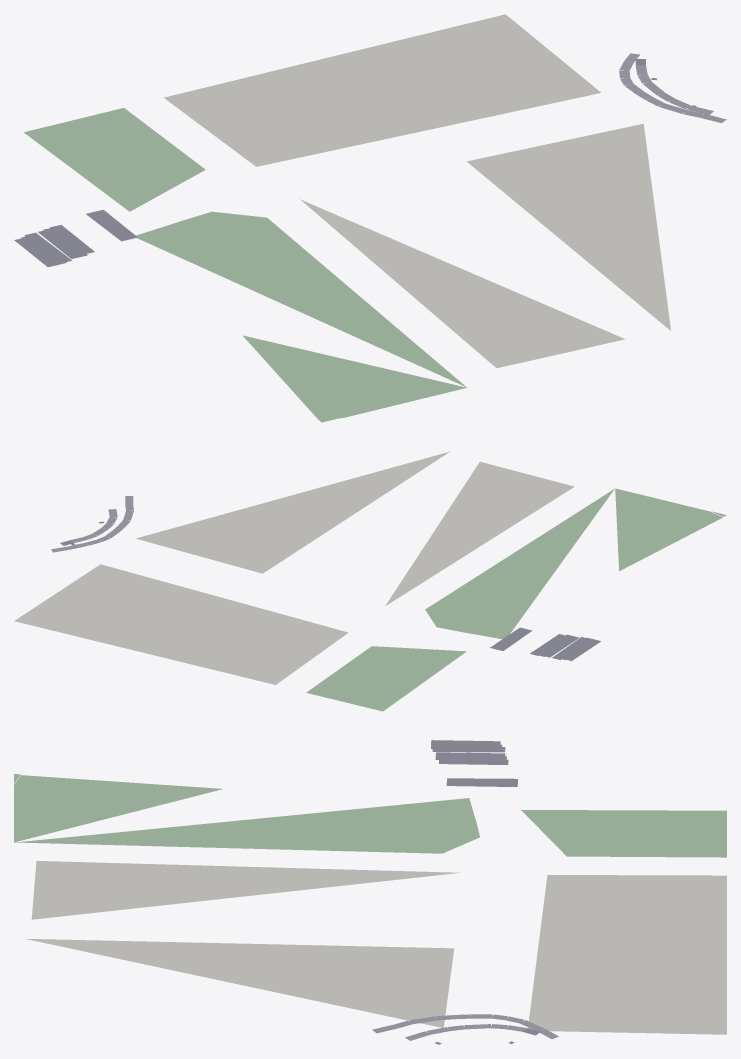
File: 137_106_mid.glb
3 renders of one model, top to bottom at view 1: azimuth 30°, elevation 25°; view 2: azimuth 150°, elevation 25°; view 3: azimuth 270°, elevation 25°, orthographic. The views are drawn at different scales.
Bounding box in the file's own units: 507 × 15.01 × 500.
